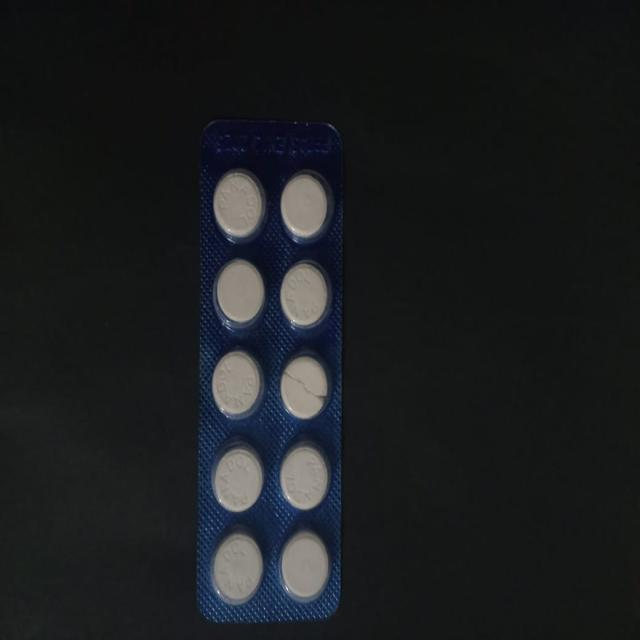defect: (279, 350, 333, 424)
